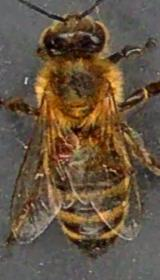varroa_mite: (46, 139, 86, 170)
